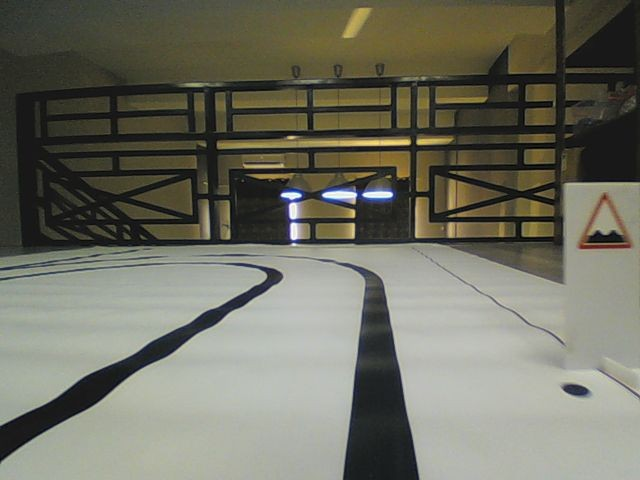Nerov: (573, 191, 636, 252)
